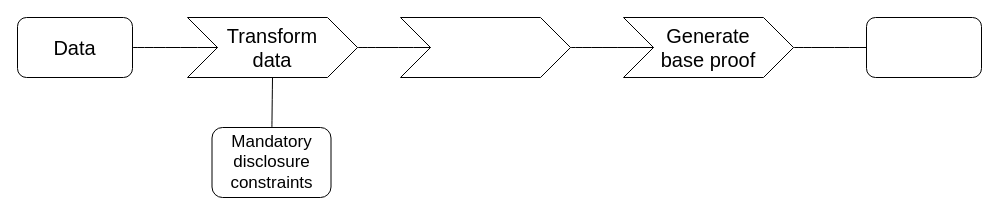
Image size: 999x215. Some labels were removed from this diagram. Here are the shapes that lost their labels. From the top down, the centre of each, then its label:
At point 485,47: "Hash data".
At point 924,47: "Data with base proof".
